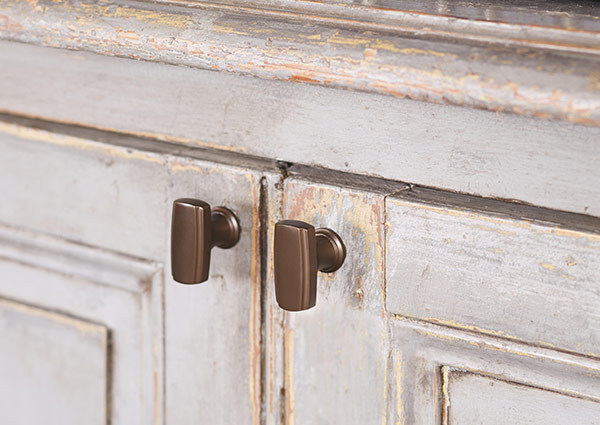cabinet door: (272, 194, 599, 423), (10, 131, 252, 421)
handle: (161, 194, 242, 305), (269, 213, 342, 316)
